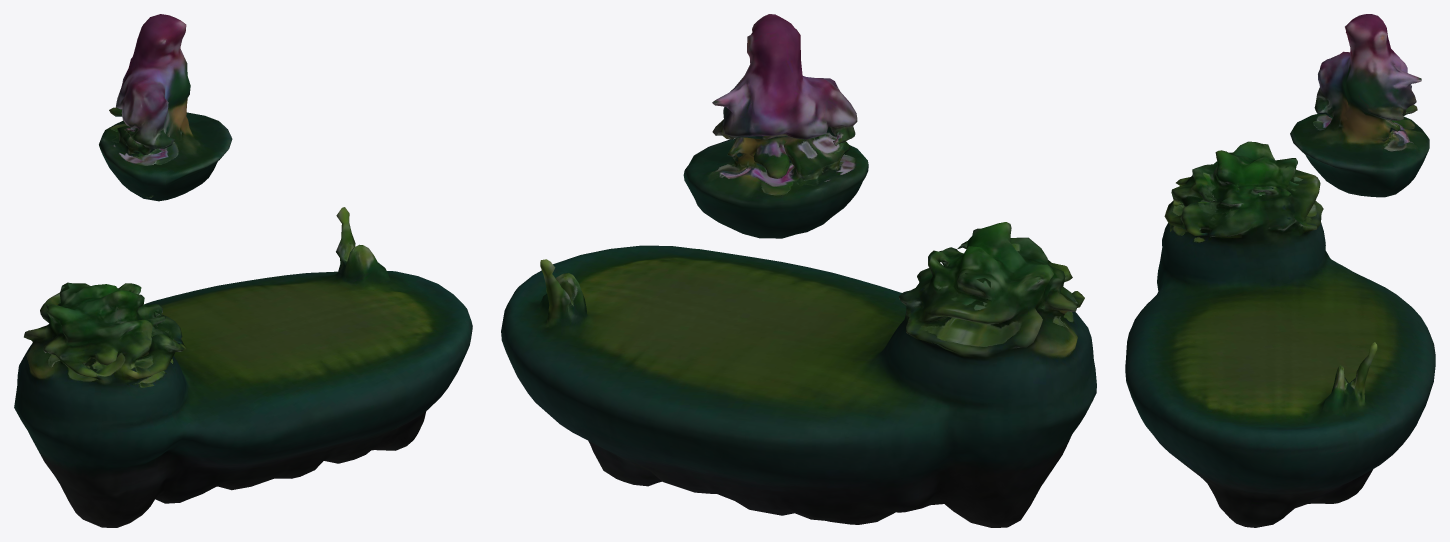
File: 7993a4725844_de274aac47aa_fairy_platformer_pl.glb
3 renders of one model, left to right at view 1: azimuth 30°, elevation 25°; view 2: azimuth 150°, elevation 25°; view 3: azimuth 270°, elevation 25°, orthographic. The views are drawn at different scales.
Visible parts, largest first — view 1: mesh; view 2: mesh; view 3: mesh.
Boxes of the visible parts, left/top/right/bottom form: mesh: left=14, top=14, right=472, bottom=527; mesh: left=501, top=14, right=1096, bottom=527; mesh: left=1125, top=14, right=1435, bottom=527.
Size of the model in its own units: 0.9944 by 0.9251 by 0.6086.
1 material, 1 textured.
